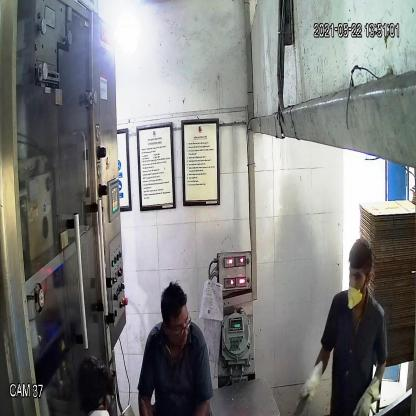goggles: (160, 315, 194, 341)
no_goggles: (344, 266, 368, 285)
